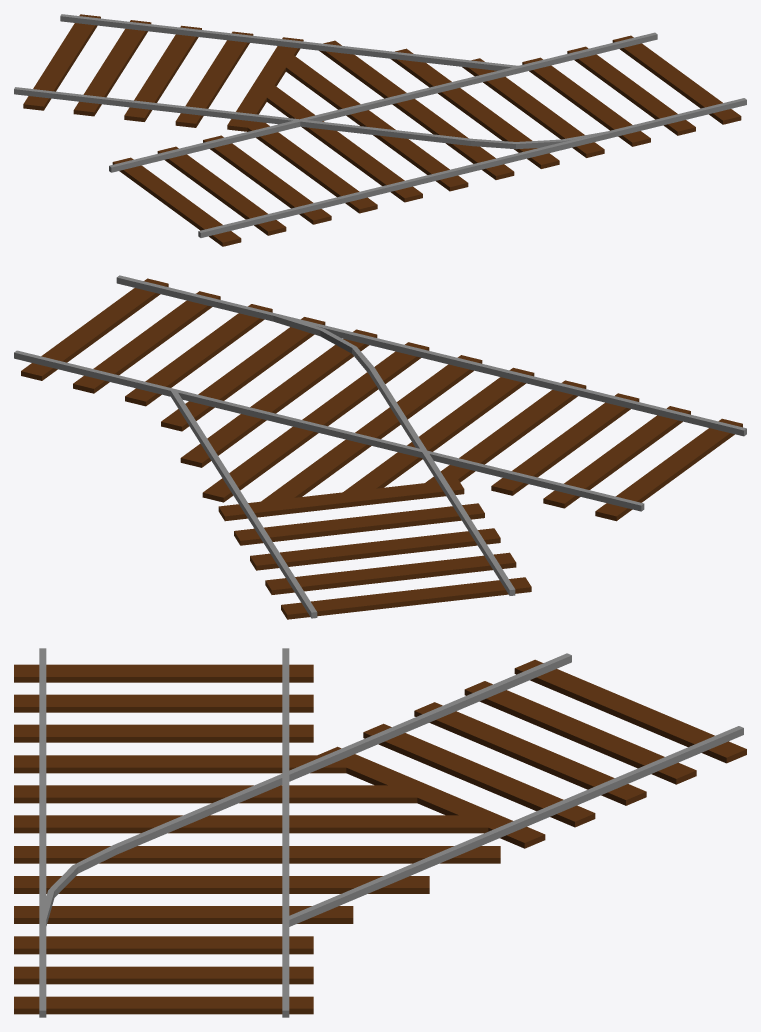
File: Bendy Track.fbx
3 views of the same model, one above another, from view 1: azimuth 30°, elevation 25°; view 2: azimuth 150°, elevation 25°; view 3: azimuth 270°, elevation 25° (orthographic). The views are drawn at different scales.
Parts seen in each view (by area): view 1: TrackBendy; view 2: TrackBendy; view 3: TrackBendy.
Part boxes in pixels (x1,y1,x2,y2): TrackBendy: [14, 14, 746, 246]; TrackBendy: [14, 275, 746, 619]; TrackBendy: [14, 648, 746, 1017].
Size of the model in its own units: 21.72 by 0.3905 by 18.58.
